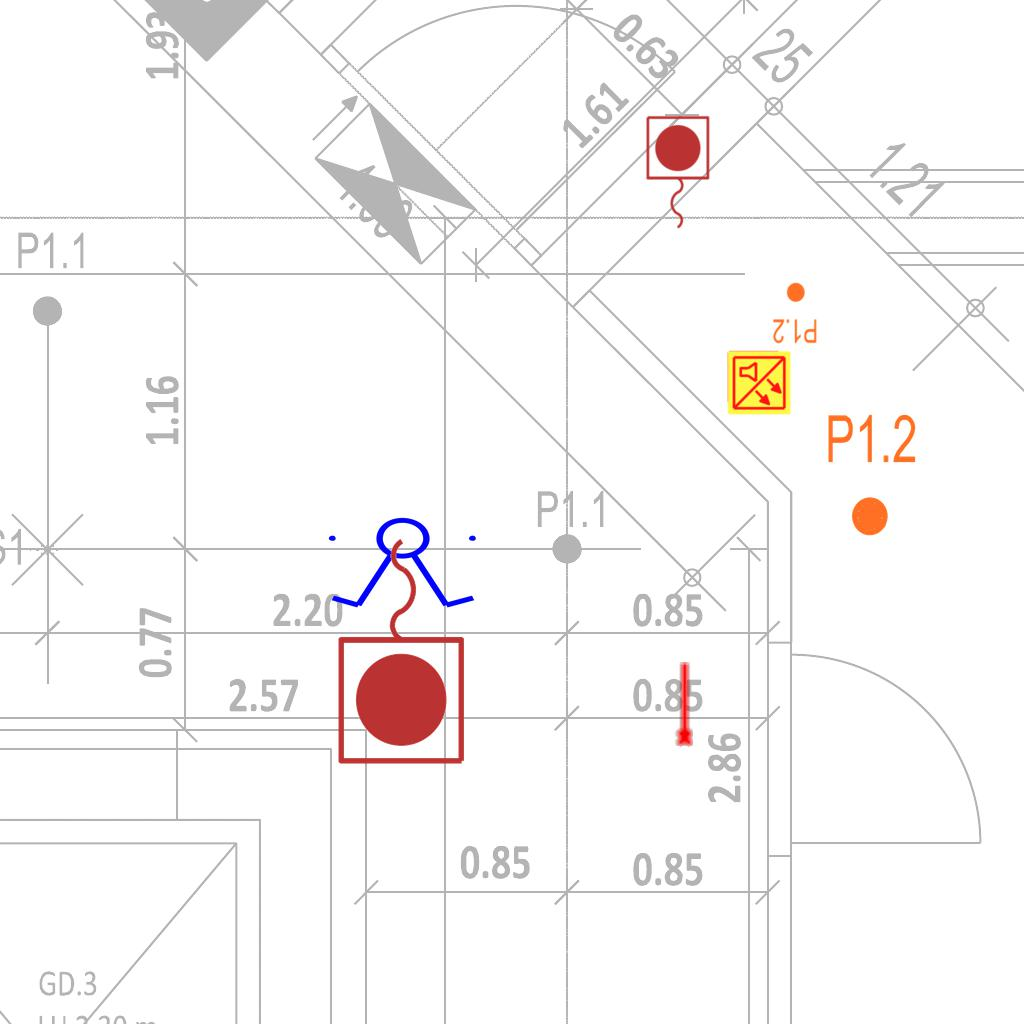ASR_Ansaugoeffnung: (672, 660, 695, 748)
Downlight_LED_Einbauleuchten_Flur: (825, 411, 918, 539), (772, 281, 818, 345)
OKW_Multisensormelder_(Kombination_optischer_Rauch-Kahlenmonoxid_Waerme-Melder): (726, 350, 792, 416)
Serienschalter: (320, 516, 488, 612)
Zugtaster: (331, 528, 475, 772), (641, 112, 713, 234)
